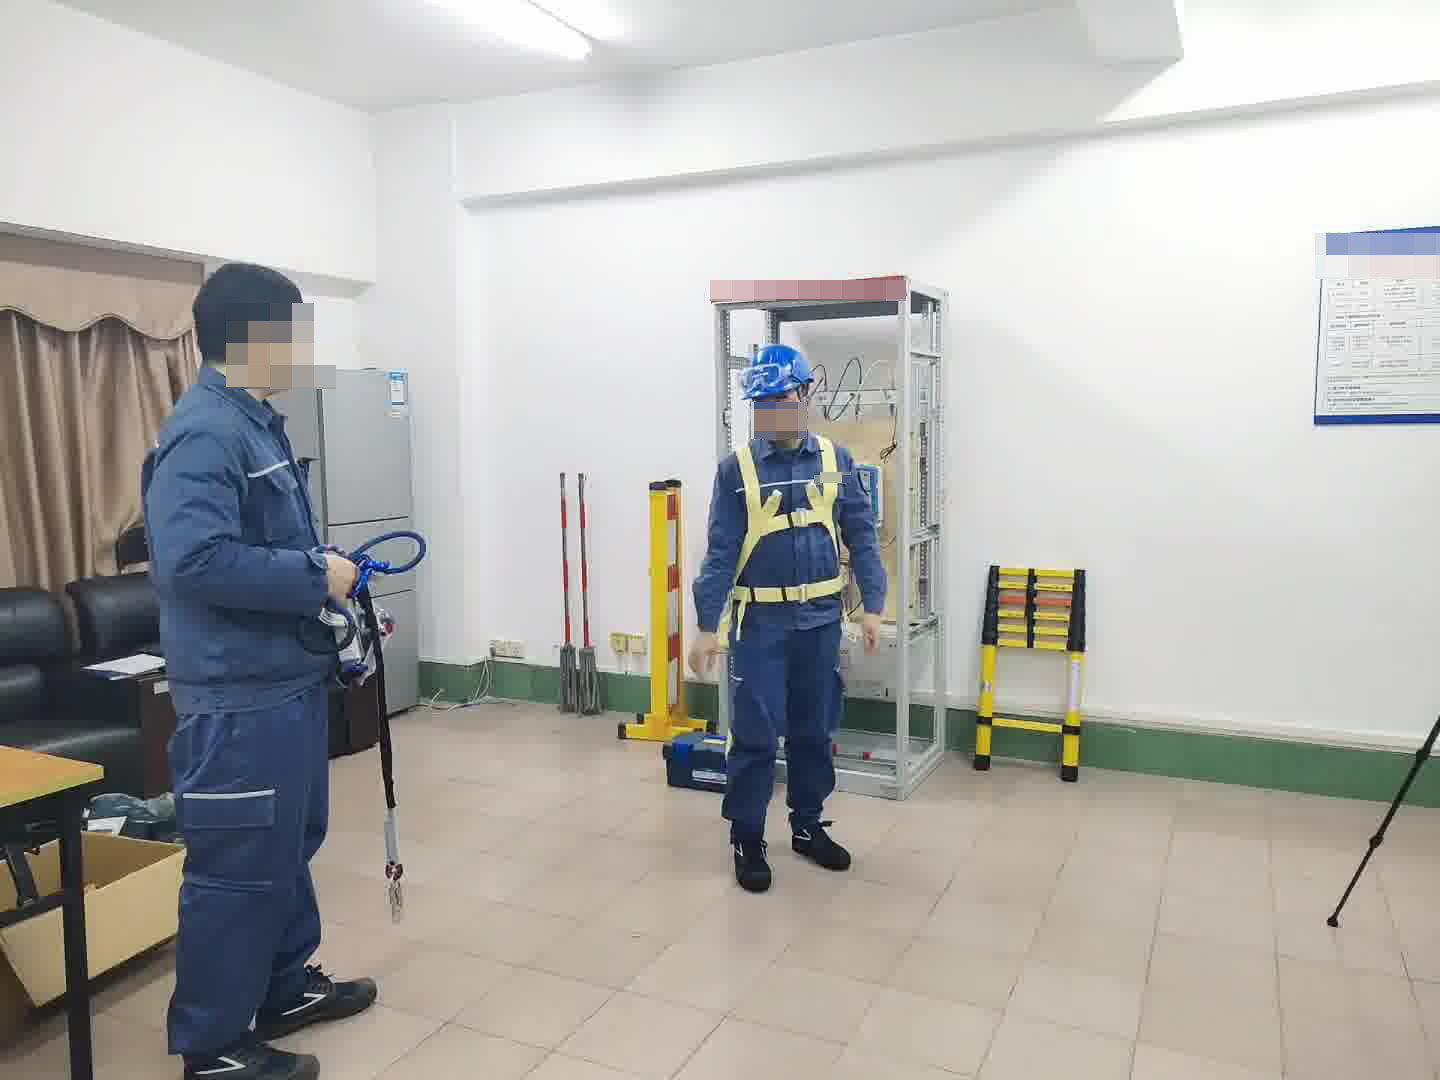downsuit: (165, 713, 336, 1062), (723, 634, 846, 833)
halt: (740, 342, 819, 441)
hand: (683, 627, 720, 677), (323, 553, 358, 605), (860, 610, 880, 657)
inear: (792, 383, 818, 417)
noear: (240, 321, 287, 365)
person: (130, 255, 399, 1080), (692, 342, 892, 882)
safebelt: (708, 427, 863, 620)
unhalt: (190, 262, 316, 391)
upsuit: (138, 381, 341, 694), (712, 432, 883, 620)
